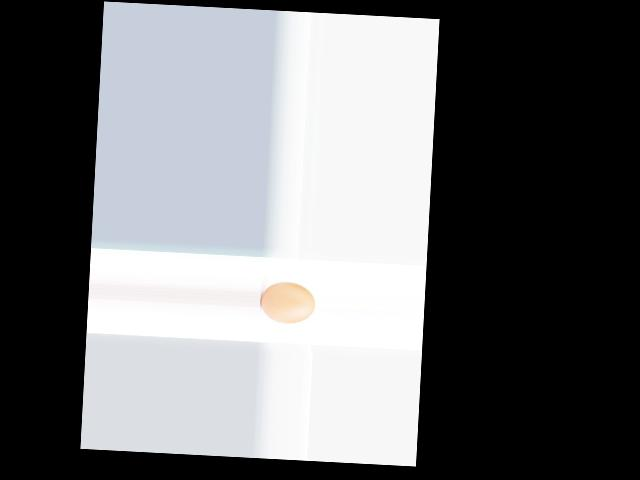egg: (259, 280, 315, 324)
